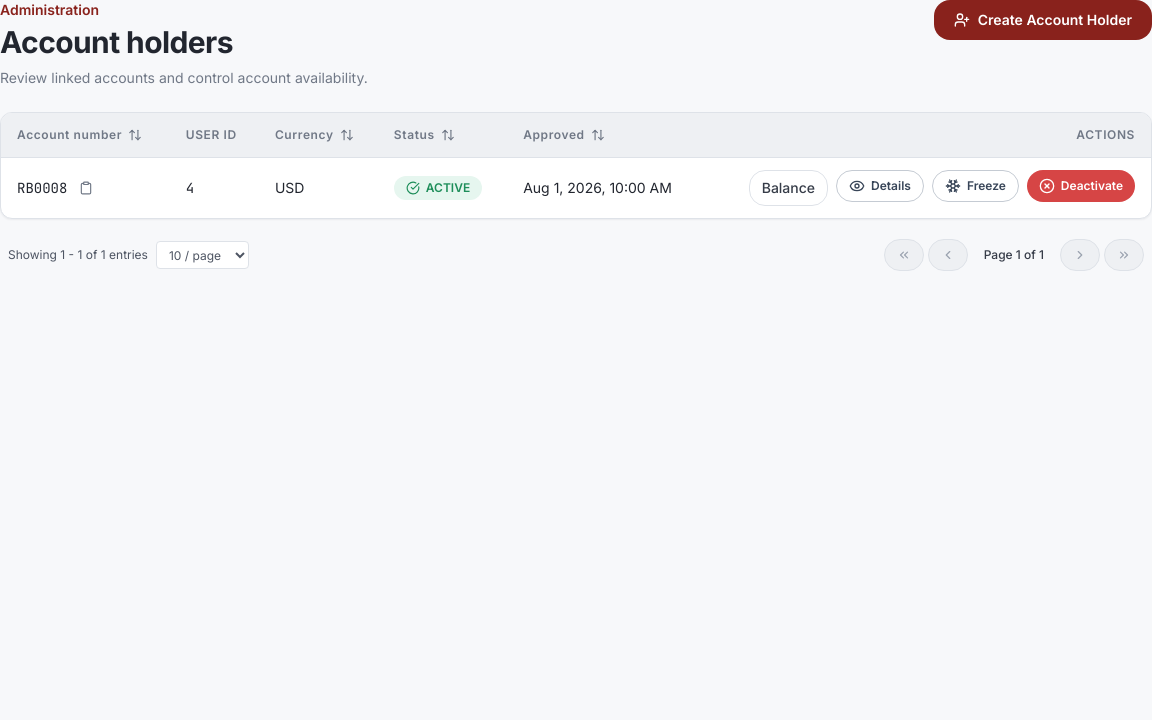
Test: AccountHoldersPage › confirms account freezing
Step 1. Click the button "Freeze" → coordinates (975, 186), box [932,170,1019,202]
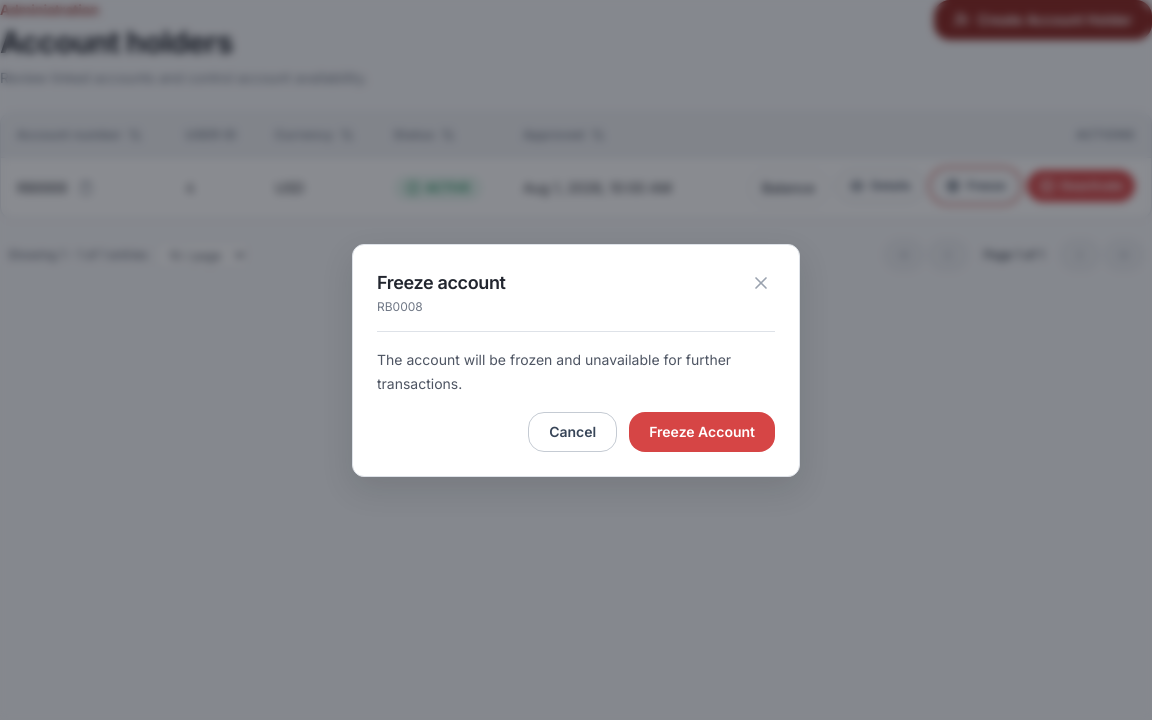
Step 2. Click the button "Freeze Account" → coordinates (702, 432), box [629,412,775,452]
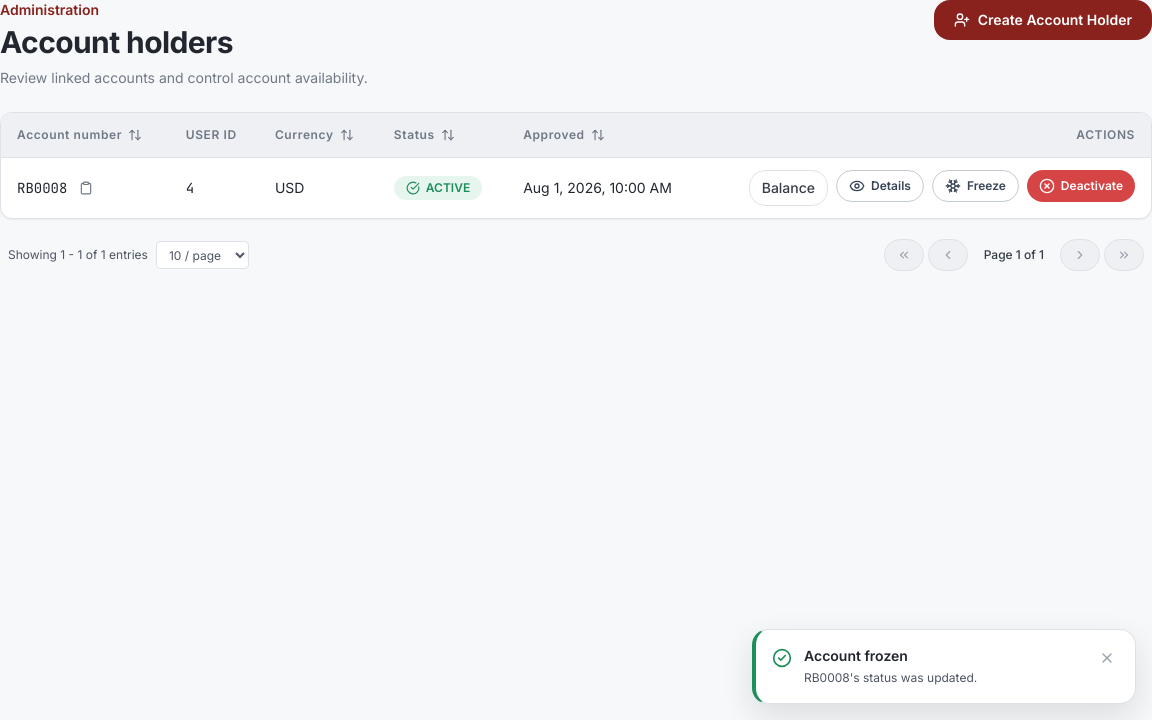
Expected: the heading "Account frozen" is shown, [804,646,908,664]
